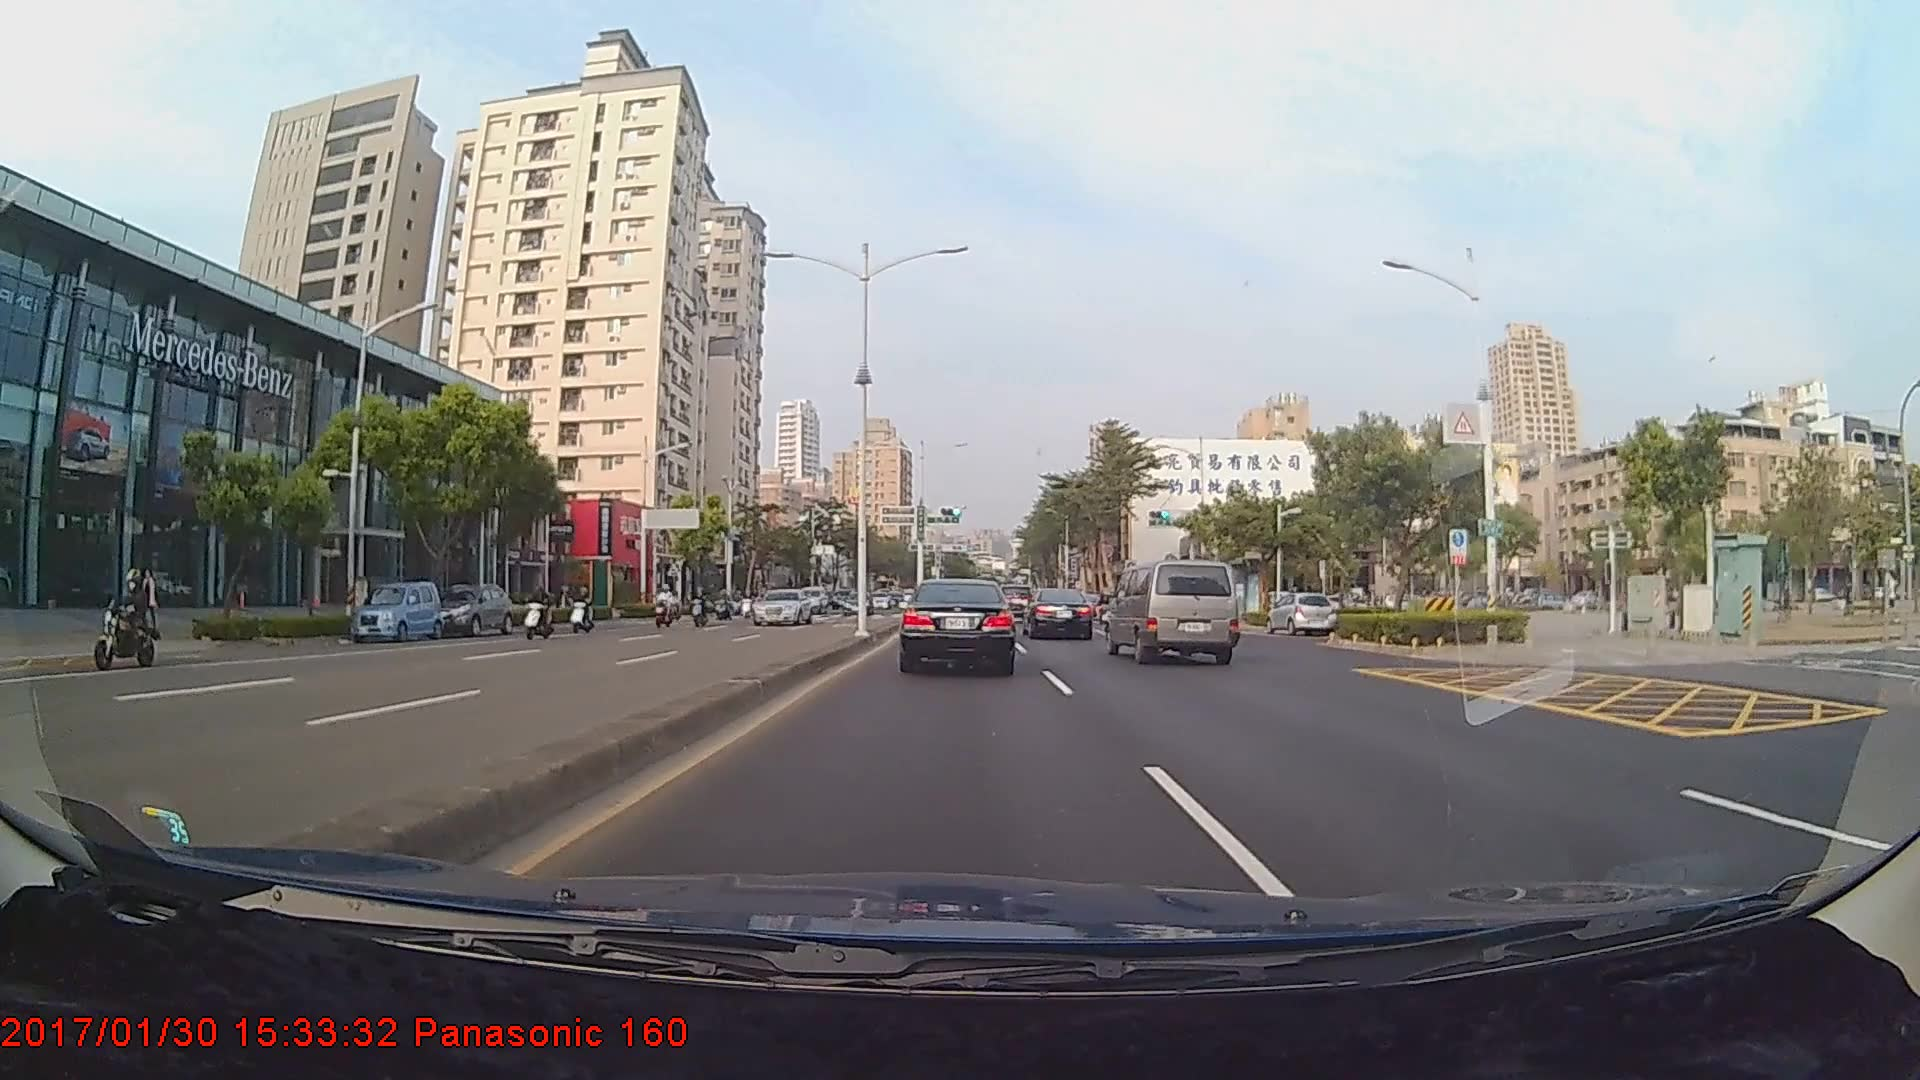pedestrian: (139, 570, 160, 635)
rider: (85, 566, 167, 672), (511, 585, 561, 644), (565, 584, 599, 641), (650, 583, 681, 632)
vehicle: (1105, 558, 1241, 664), (898, 576, 1017, 673), (349, 581, 442, 644), (427, 582, 516, 637), (1024, 587, 1094, 641), (1266, 592, 1334, 636), (753, 587, 810, 625)
